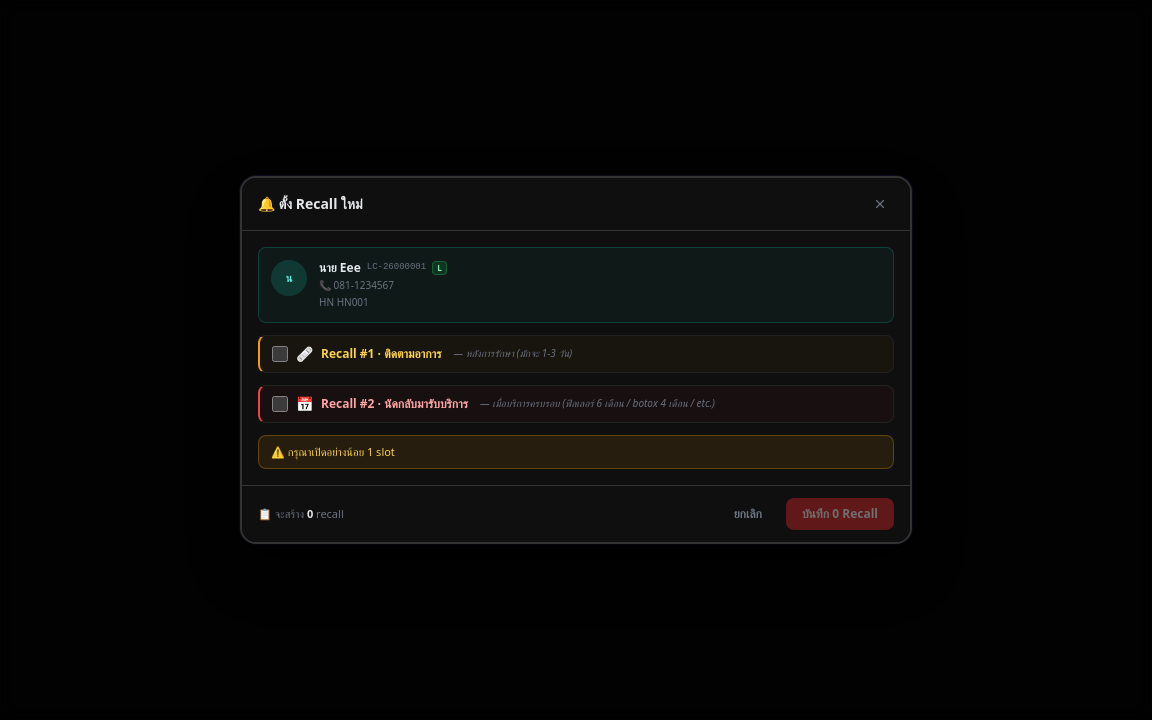
Phase 29 · M1 RecallCreateModal slot toggle behavior › M1.3 toggle ON shows date + reason inputs
Click the checkbox with test id "recall-slot-aftercare-toggle" at (280, 354), box [272, 346, 288, 362]
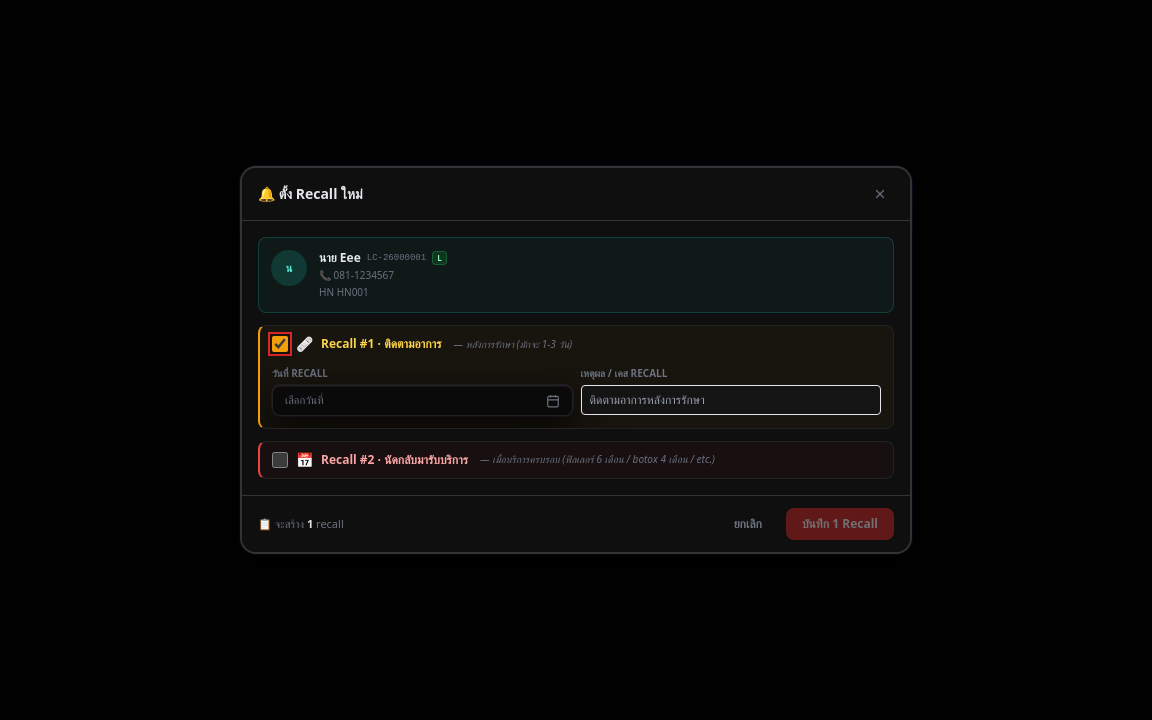
Check: the field with test id "recall-slot-aftercare-reason" is shown, box [580, 385, 881, 415]
